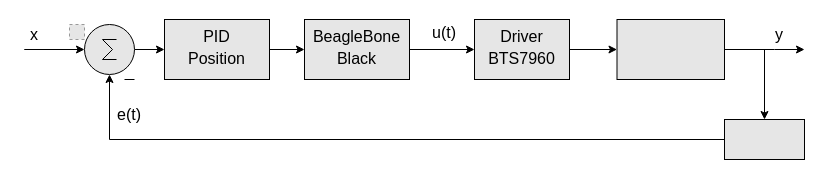
Image size: 830x177. Some labels were removed from this diagram. Grey dashed boxes stand in for pictures. Here are the shapes that lost their labels. From the top down, the centre of each, then its label:
the point at 670,49: Động cơ DC JGB37
the point at 764,139: Encoder
